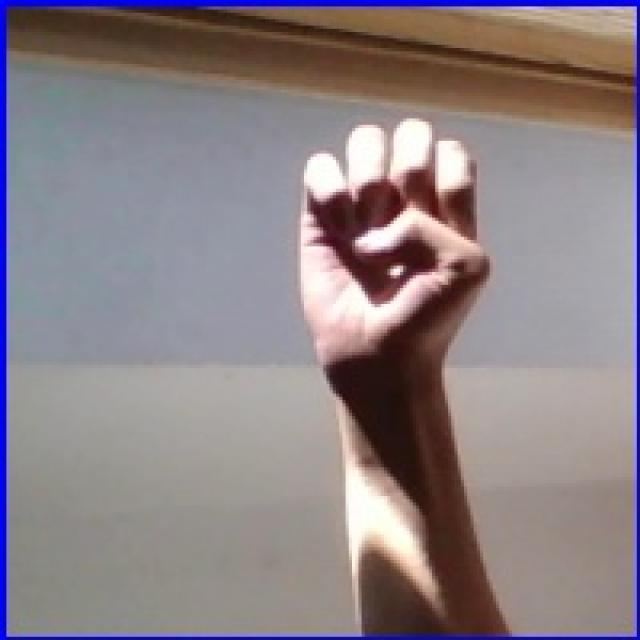Letra E: (264, 87, 518, 421)
